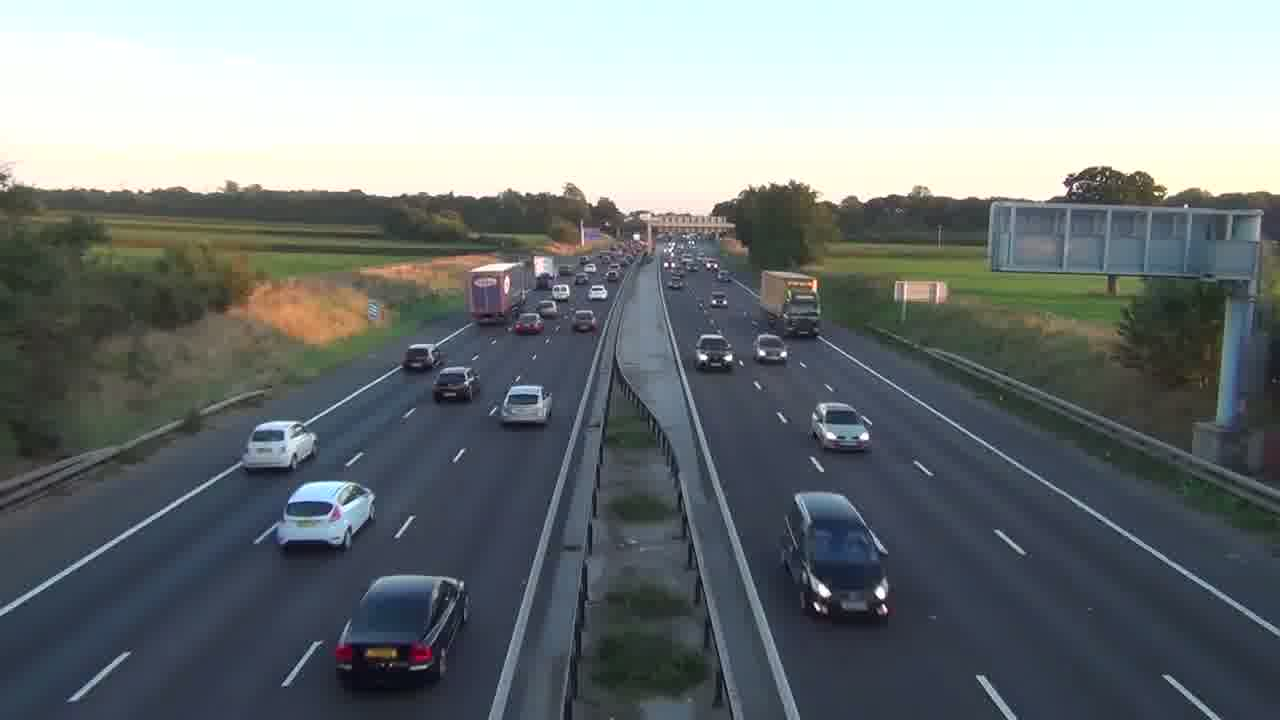car: (333, 573, 469, 691), (777, 490, 894, 623), (274, 479, 376, 551), (242, 419, 319, 472), (810, 400, 873, 452), (497, 383, 553, 424), (432, 365, 482, 403), (694, 333, 737, 372), (754, 333, 789, 365), (402, 343, 440, 371), (572, 308, 597, 334)
truck: (464, 260, 522, 323)
